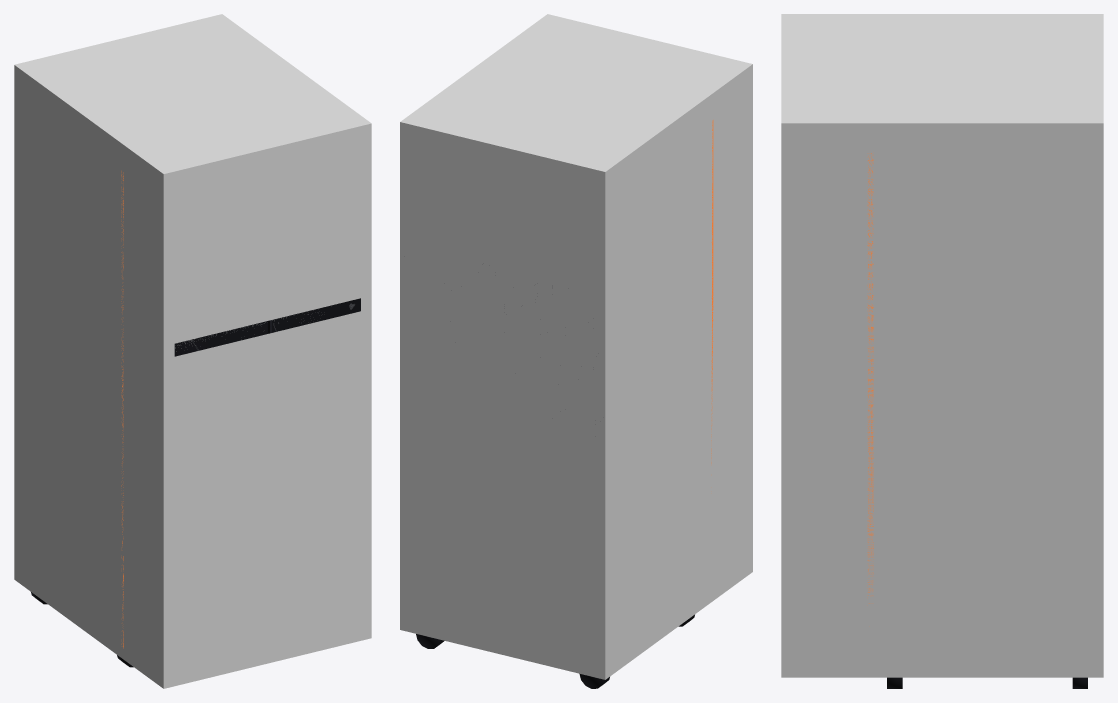
Rendered from Tech_TerminalKiosk.001.gltf.
The picture shows the model from 3 angles, left to right: view 1: azimuth 30°, elevation 25°; view 2: azimuth 150°, elevation 25°; view 3: azimuth 270°, elevation 25°; orthographic projection. The views are drawn at different scales.
Visible parts, largest first — view 1: Tech_TerminalKiosk.001_COL, Tech_TerminalKiosk.001; view 2: Tech_TerminalKiosk.001_COL, Tech_TerminalKiosk.001; view 3: Tech_TerminalKiosk.001_COL, Tech_TerminalKiosk.001.
Boxes of the visible parts, x1=… form: Tech_TerminalKiosk.001_COL: x1=14, y1=14, x2=371, y2=688; Tech_TerminalKiosk.001: x1=31, y1=171, x2=360, y2=667; Tech_TerminalKiosk.001_COL: x1=400, y1=14, x2=752, y2=679; Tech_TerminalKiosk.001: x1=416, y1=120, x2=713, y2=688; Tech_TerminalKiosk.001_COL: x1=781, y1=14, x2=1103, y2=677; Tech_TerminalKiosk.001: x1=867, y1=153, x2=1087, y2=688.
Size of the model in its own units: 0.502 by 1.23 by 0.625.
Materials: 5 (3 with a texture image).
